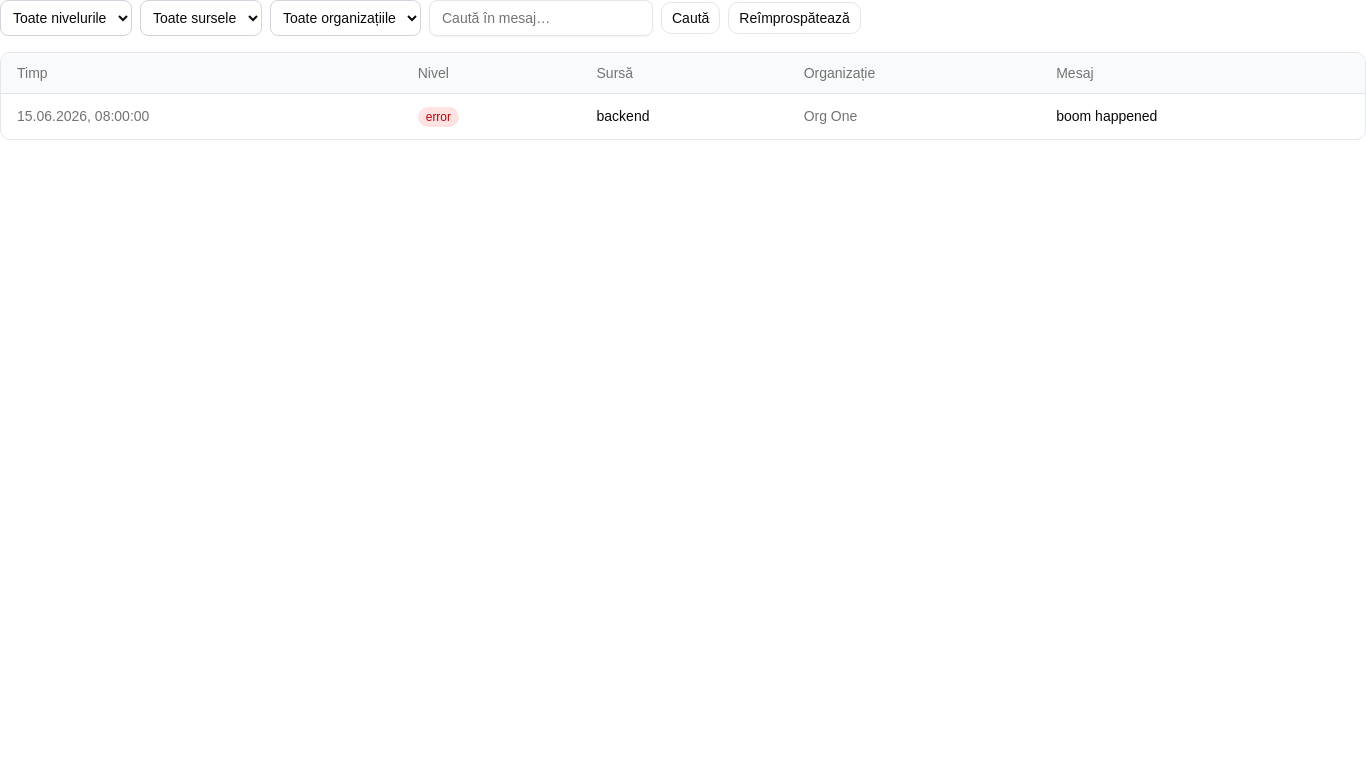
it: LogsTab › opens the detail dialog with stack and context on row click
Click the text "boom happened": (1107,116) top-left (1040, 93), bottom-right (1365, 138)
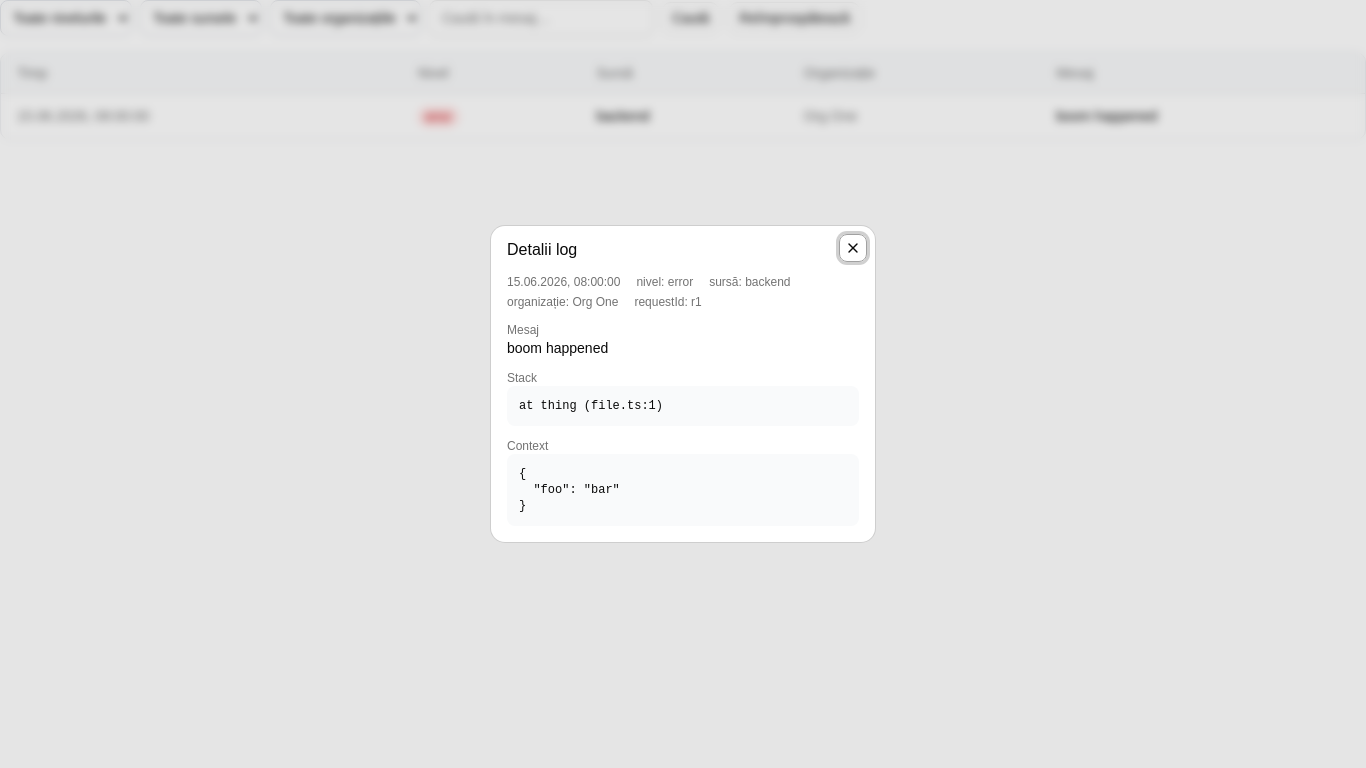
Now the heading "Detalii log" is shown, box top-left (507, 241), bottom-right (577, 258)
Now the text "at thing (file.ts:1)" is shown, box top-left (507, 386), bottom-right (859, 426)
Now the text "{ \"foo\": \"bar\" }" is shown, box top-left (507, 454), bottom-right (859, 526)
